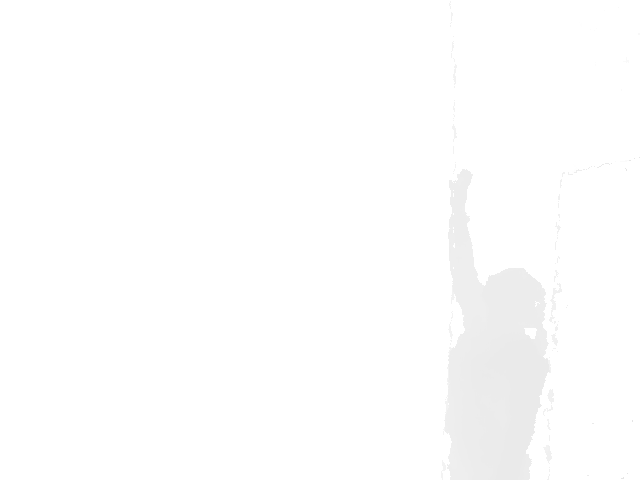hand: (446, 171, 474, 202)
head: (482, 267, 548, 332)
person: (443, 168, 552, 480)
